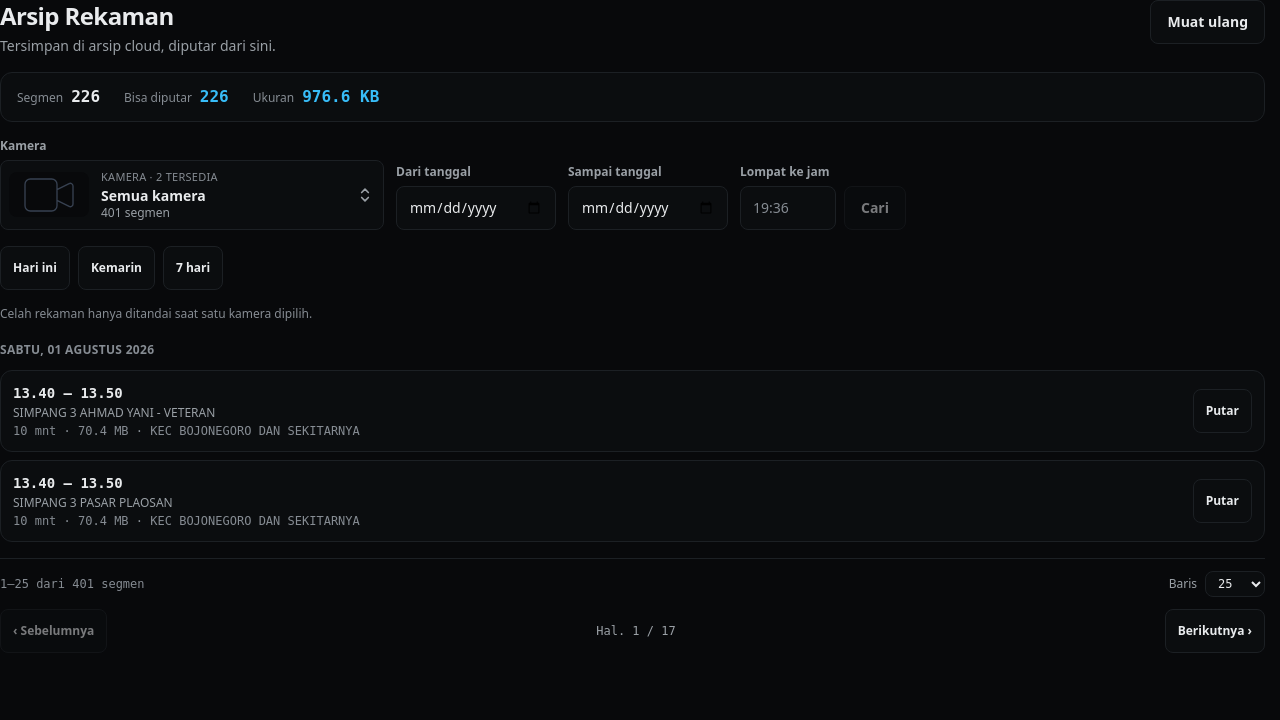
TelegramArchiveLibrary row density › drops the repeated camera and area from rows once one camera is selected
The width and height of the screenshot is (1280, 720).
Expected: the list item that starts with "SIMPANG 3 AHMAD YANI - VETERAN" is shown, [0,370,1265,452]
Click the button "Kamera · 2 tersedia Semua kamera 401 segmen" at (192, 195), box [0,160,384,230]
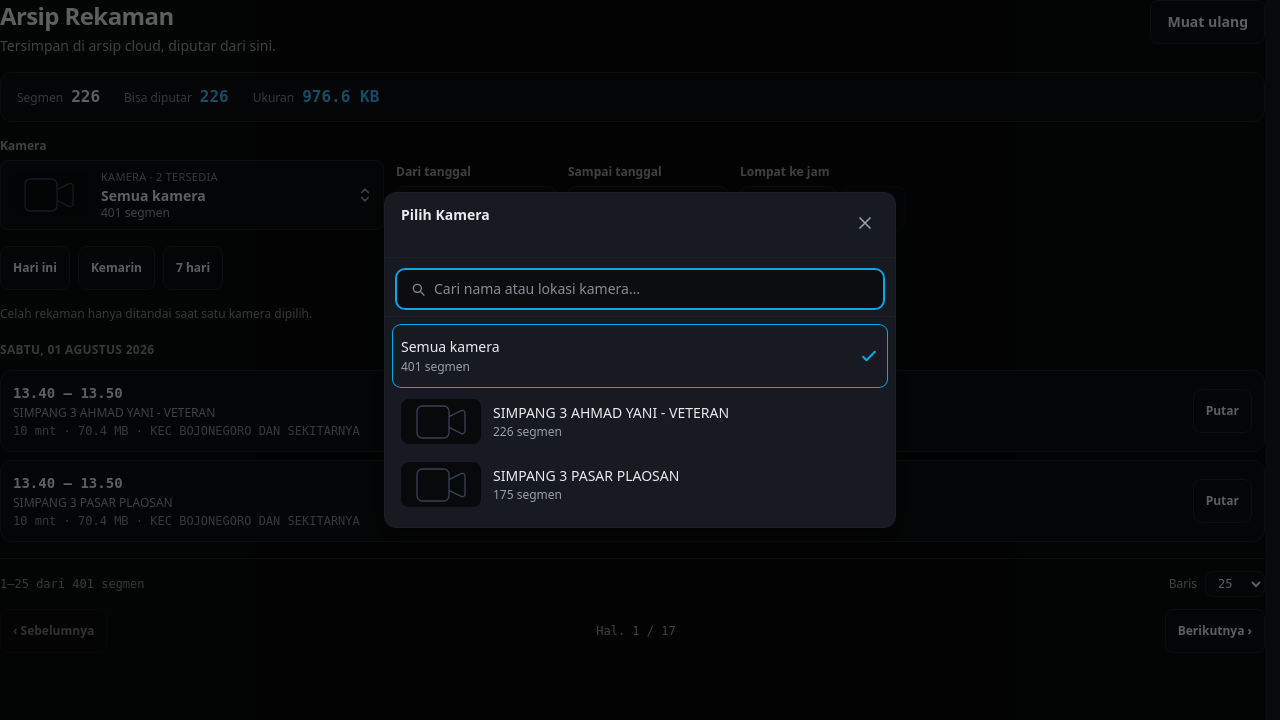
Click the button "SIMPANG 3 AHMAD YANI - VETERAN 226 segmen" at (640, 422), box [393,391,887,452]
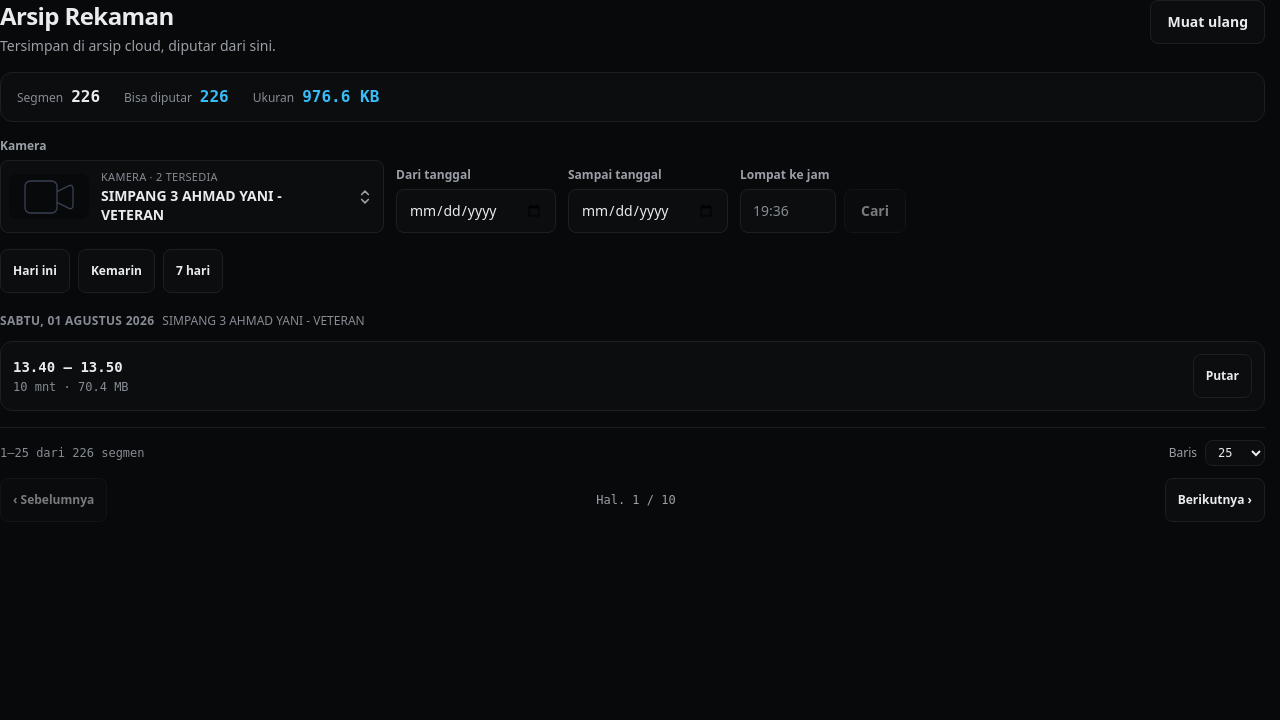
Result: the text "KEC BOJONEGORO" is gone
Result: the heading "Sabtu, 01 Agustus 2026 SIMPANG 3 AHMAD YANI - VETERAN" is shown at [0,309,1265,333]
